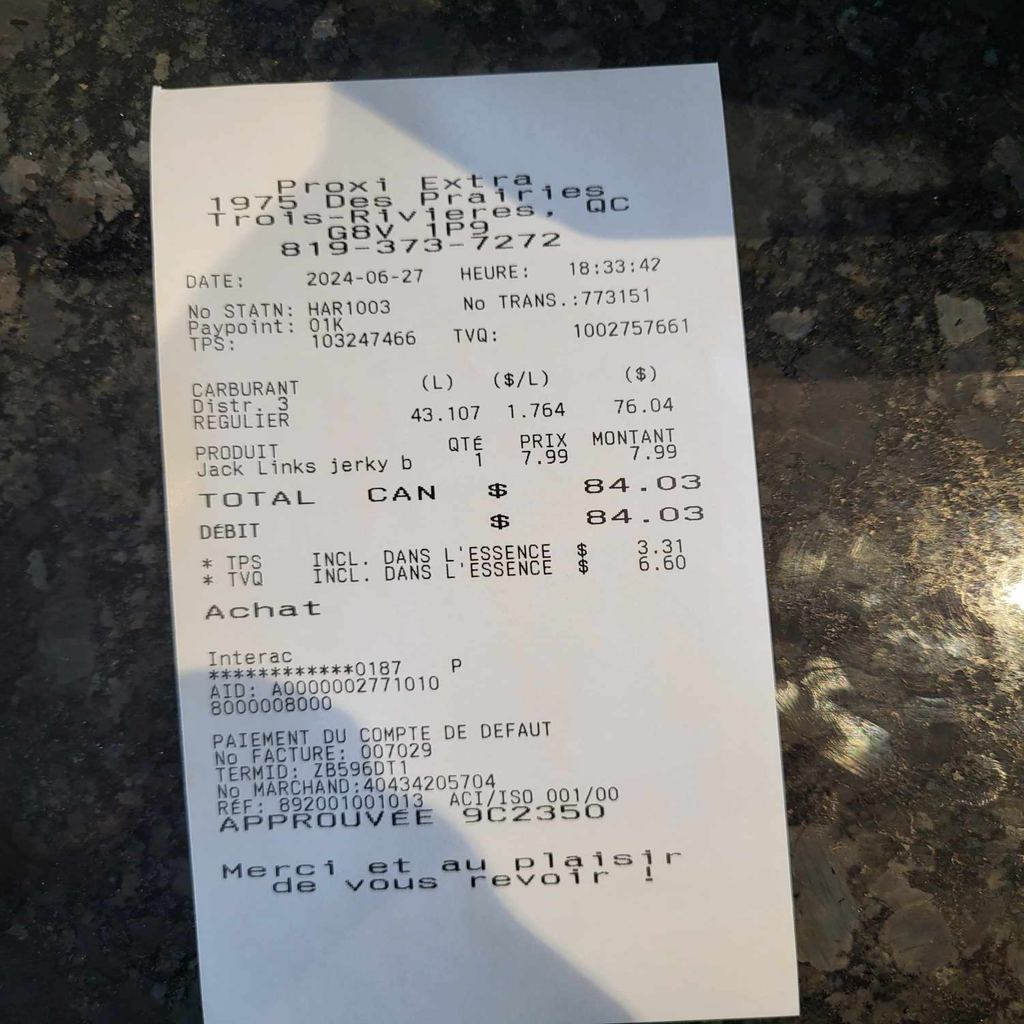recipt: (151, 59, 802, 1022)
